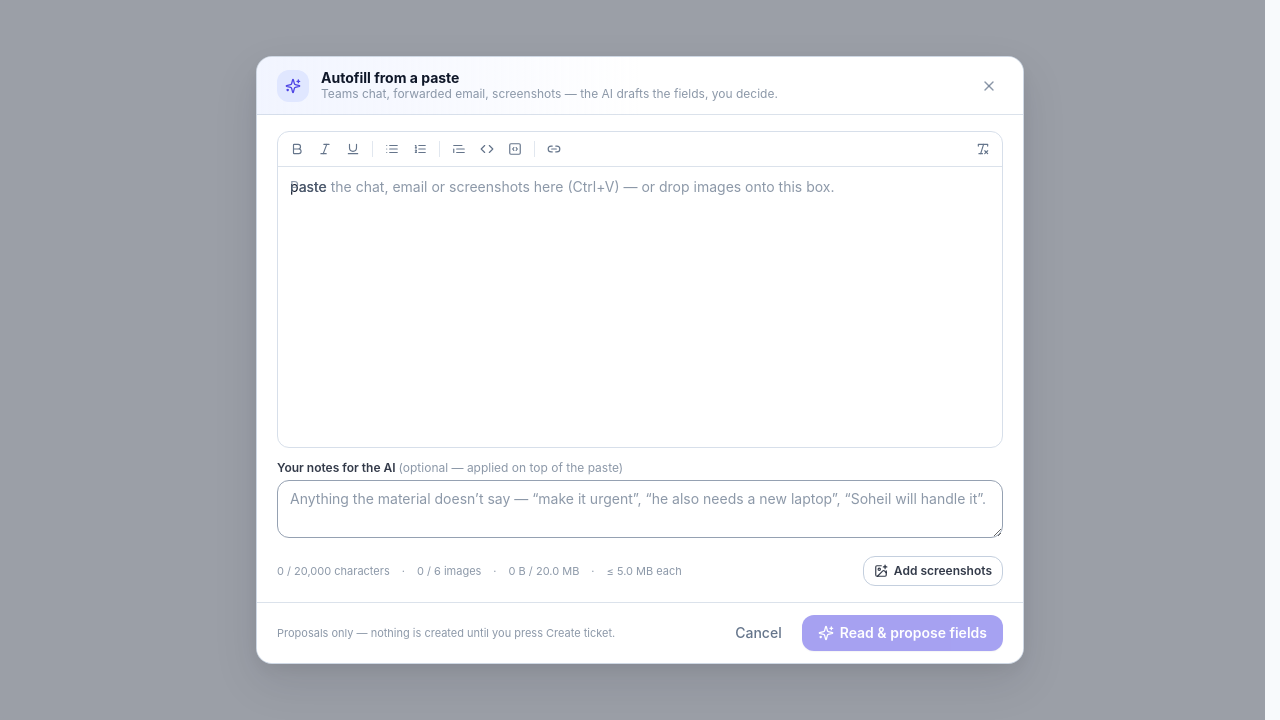
Test: AutofillModal — extract + review › the run stamp names the run, model and duration in the footer
Clear the field named "Pasted source material": (308, 187) [290, 178, 327, 195]
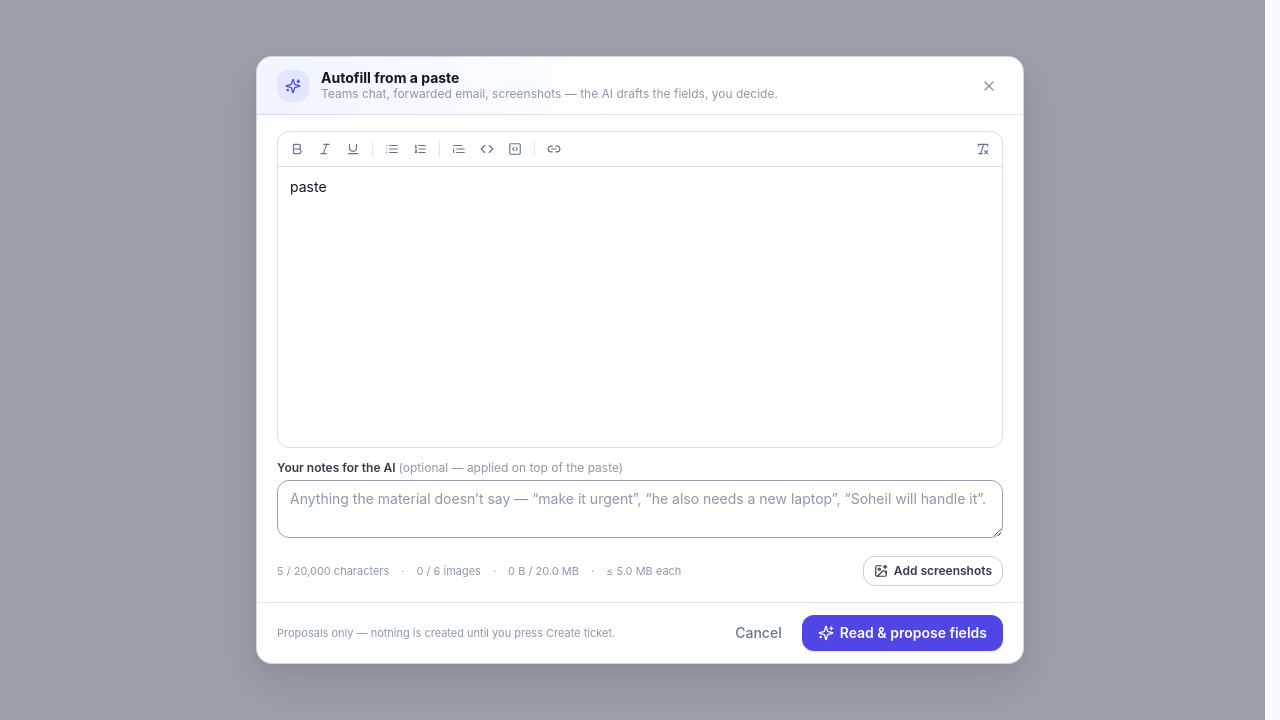
Click the button "Read & propose fields": click(902, 633) [802, 615, 1003, 651]
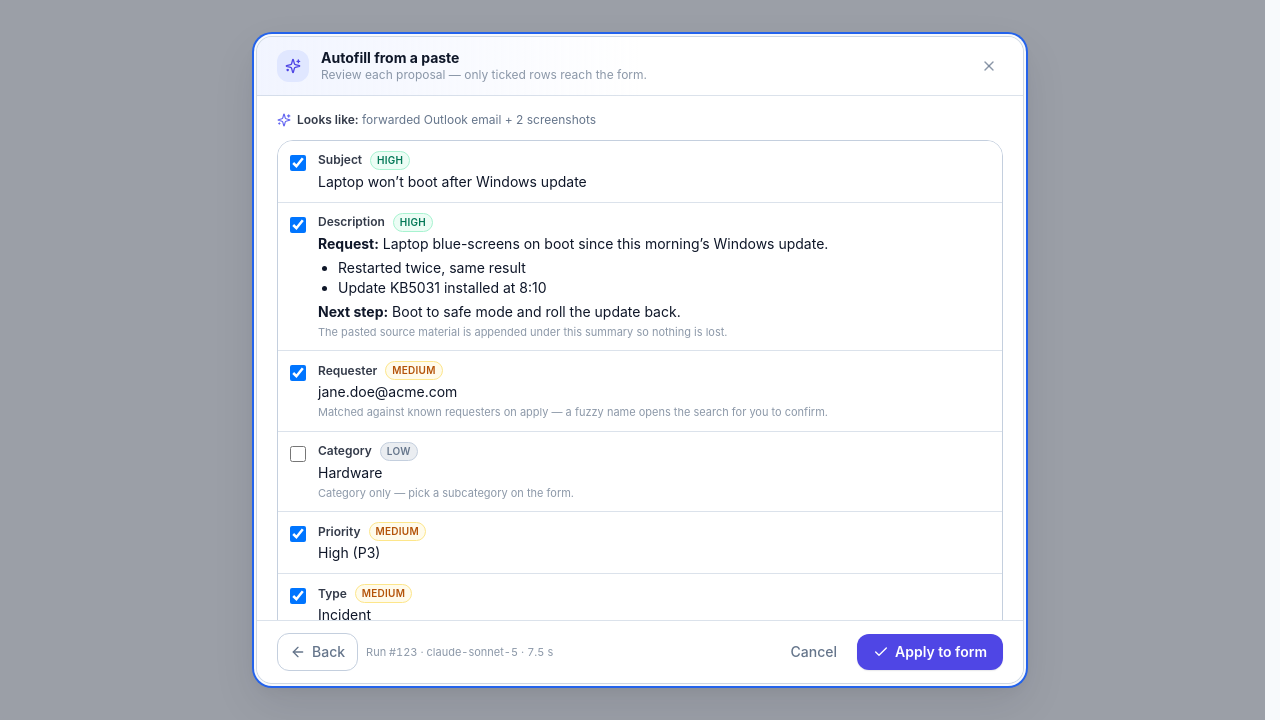
Now the element with test id "autofill-source-summary" is shown, box [277, 112, 596, 126]
Now the text with test id "autofill-run-stamp" reads "Run #123 · claude-sonnet-5 · 7.5 s", box [366, 645, 553, 659]
